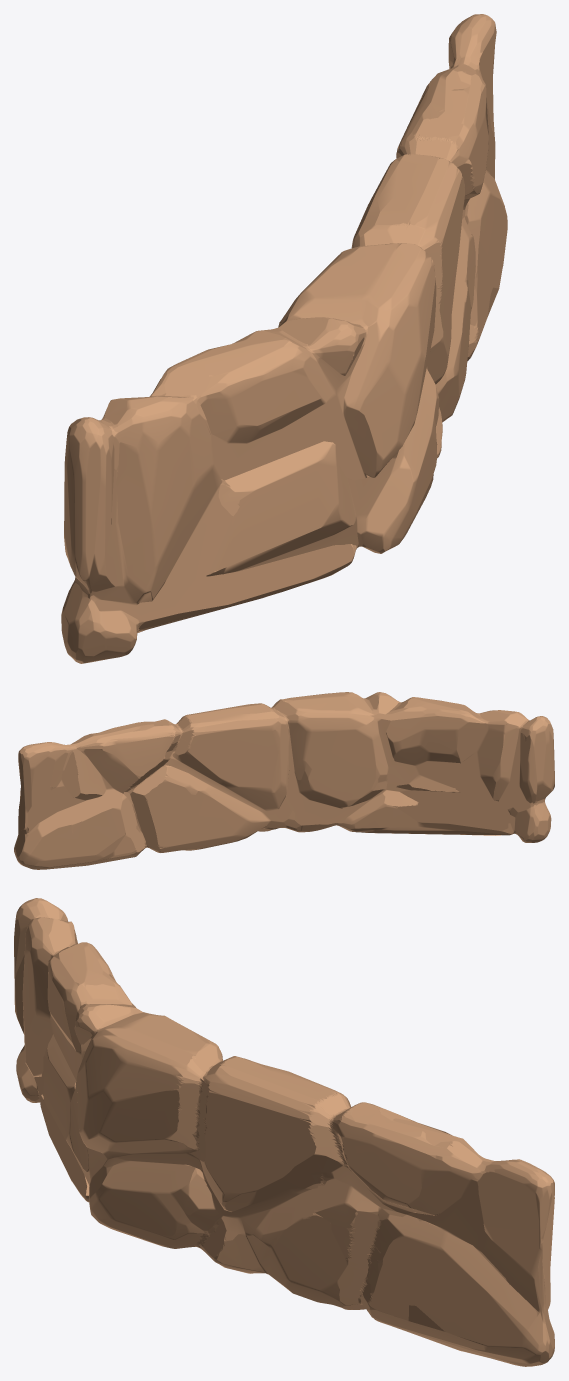
3 renders of one model, top to bottom at view 1: azimuth 30°, elevation 25°; view 2: azimuth 150°, elevation 25°; view 3: azimuth 270°, elevation 25°, orthographic. The views are drawn at different scales.
Parts seen in each view (by area): view 1: Mesh_14_LOD0; view 2: Mesh_14_LOD0; view 3: Mesh_14_LOD0.
Part boxes in pixels (x1,y1,x2,y2): Mesh_14_LOD0: (61,14,507,663); Mesh_14_LOD0: (14,692,554,869); Mesh_14_LOD0: (14,898,554,1366).
Size of what is drawn, in the model's own units: 3590 by 1178 by 2814.
